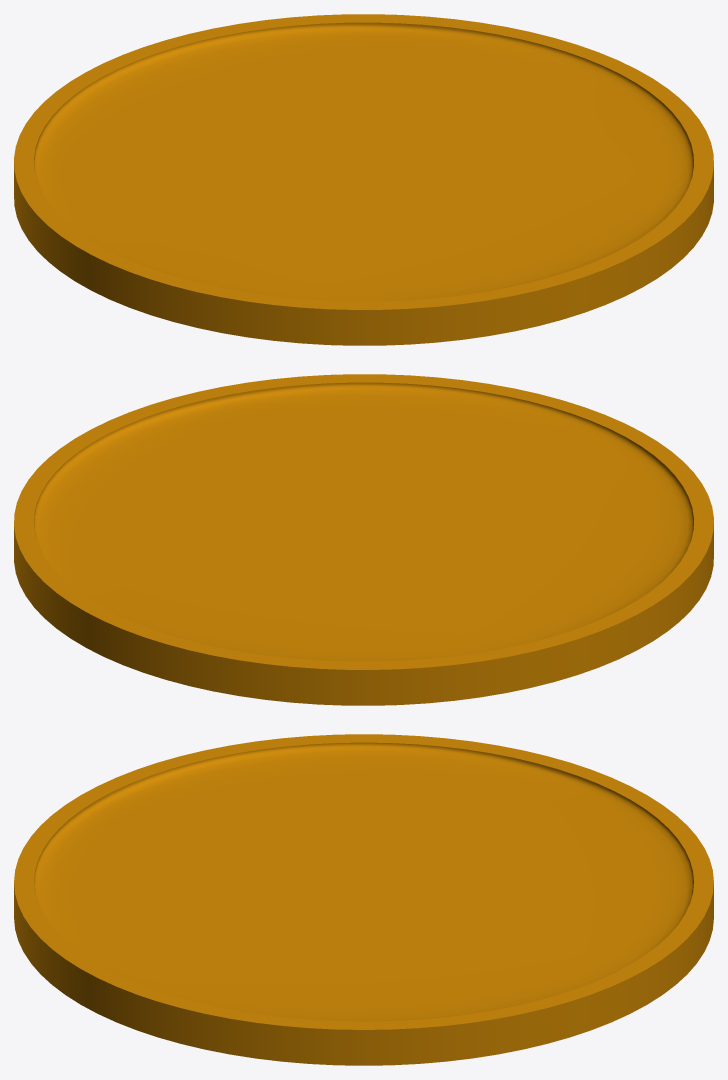
File: original_Coin.obj
3 views of the same model, one above another, from view 1: azimuth 30°, elevation 25°; view 2: azimuth 150°, elevation 25°; view 3: azimuth 270°, elevation 25° (orthographic).
Parts seen in each view (by area): view 1: obj1; view 2: obj1; view 3: obj1.
Part boxes in pixels (x1,y1,x2,y2): obj1: [14, 14, 713, 345]; obj1: [14, 374, 713, 705]; obj1: [14, 734, 713, 1065].
Size of the model in its own units: 2.5 by 0.1411 by 2.5.
